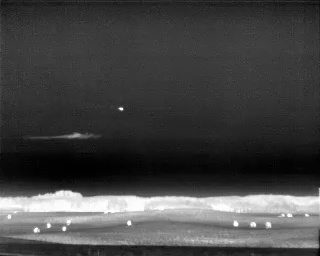BIRD: (116, 104, 126, 114)
